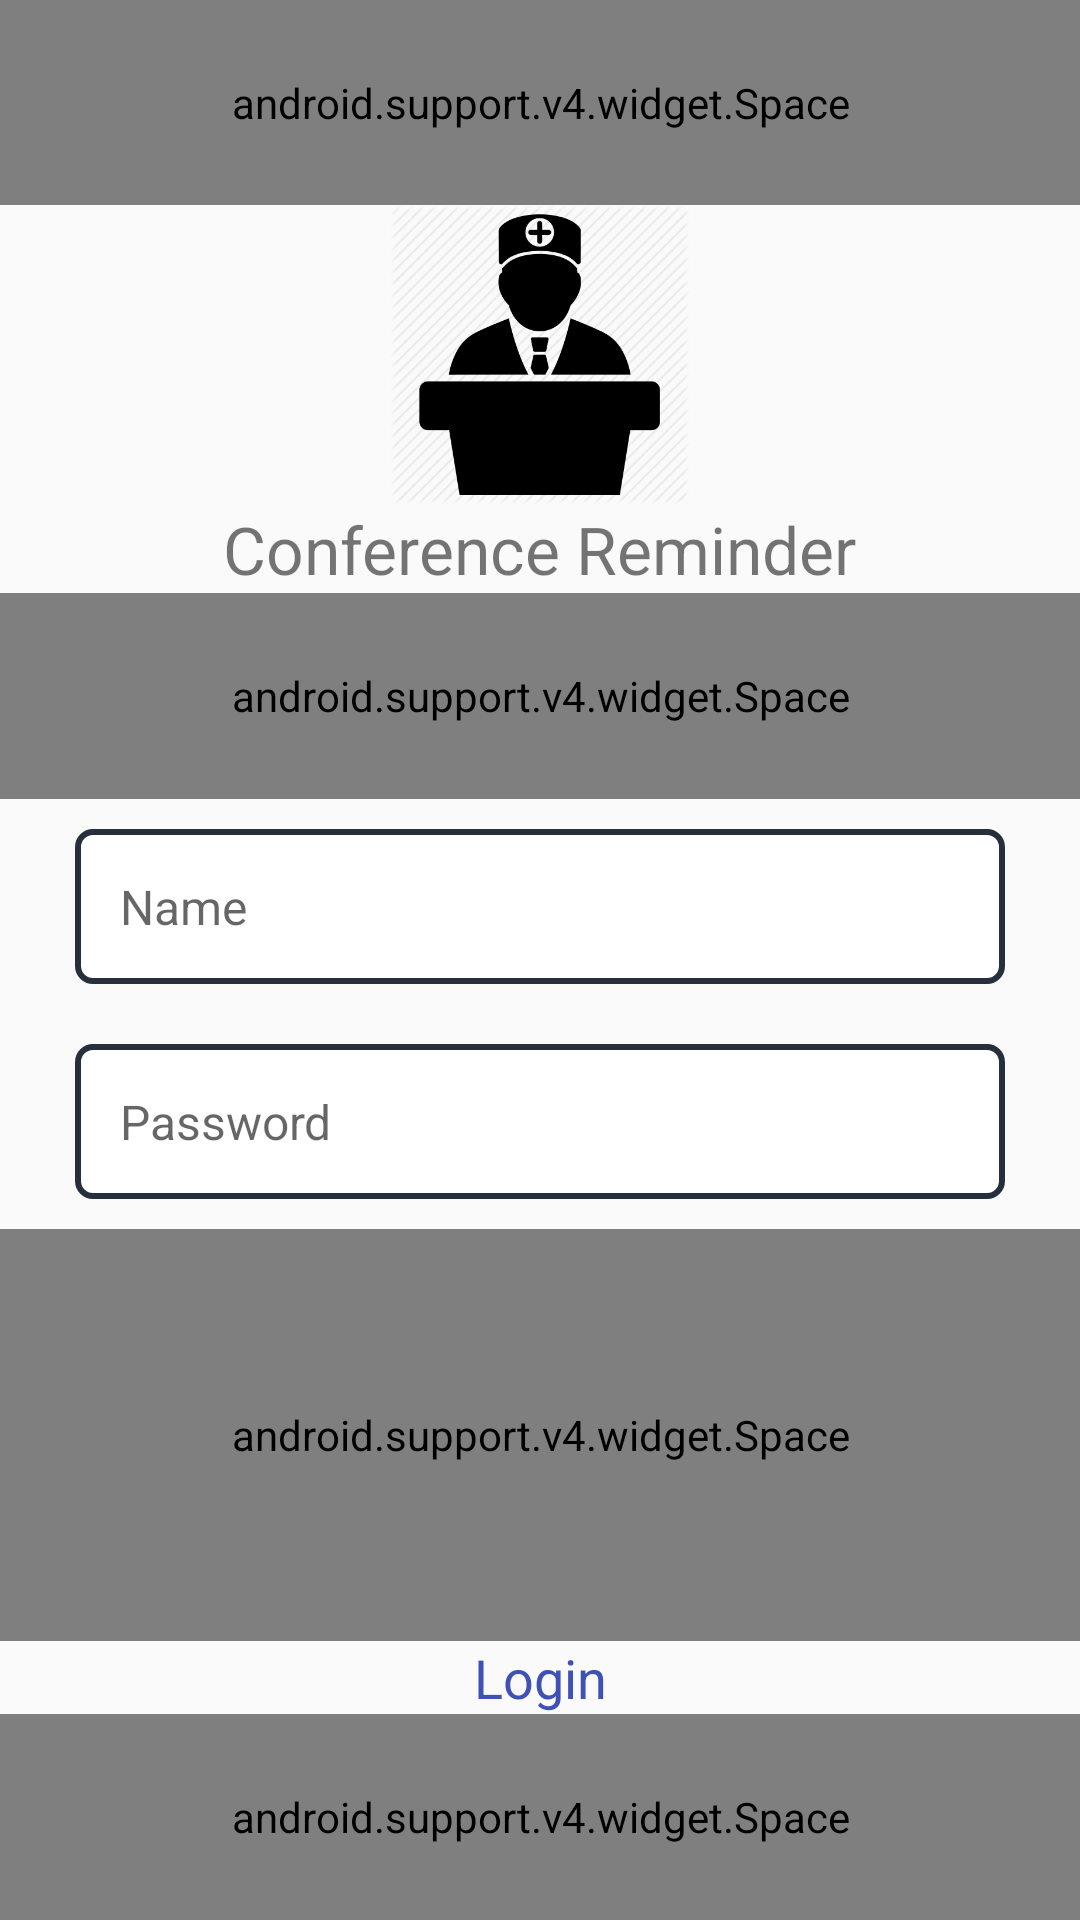

Where to tap for icons on this 1080x1920 app screen, as (x,y):
official: (539,354)
